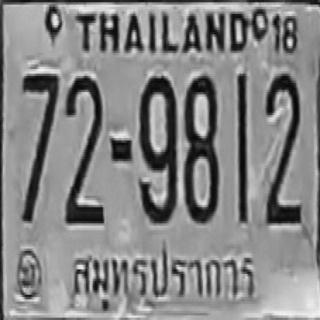N01: (236, 72, 247, 222)
N02: (64, 74, 102, 223), (265, 72, 300, 224)
N07: (21, 71, 58, 221), (21, 71, 58, 182)
N08: (183, 74, 219, 221)
N09: (138, 74, 176, 221)
P57: (65, 240, 261, 303)
